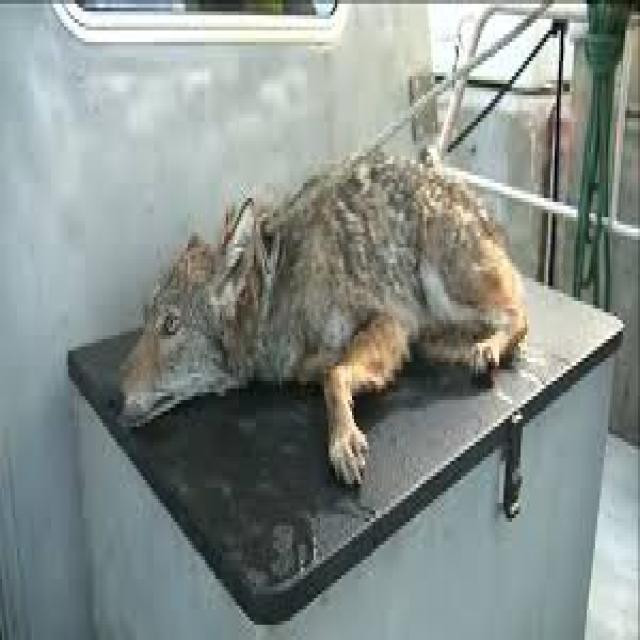Coyote: (111, 132, 525, 484)
